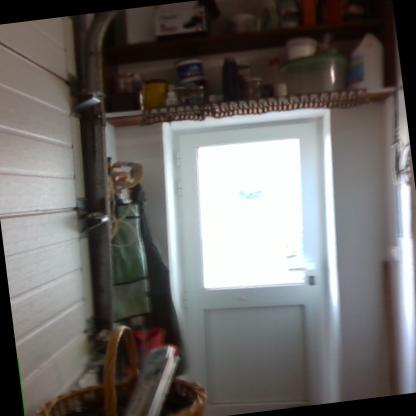closed: (155, 97, 361, 415)
